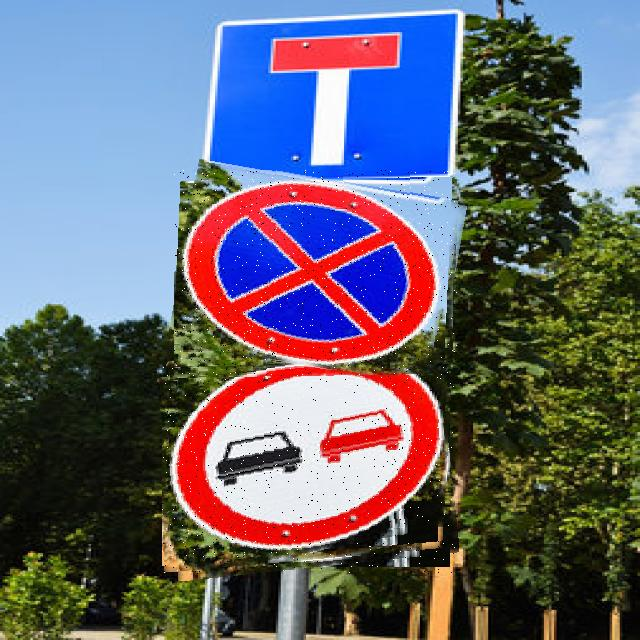no overtaking: (162, 355, 455, 574)
no stopping: (174, 170, 460, 378)
